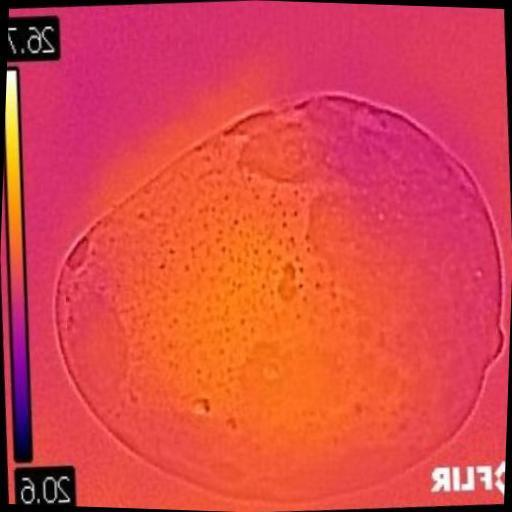alphanso: (54, 95, 503, 505)
